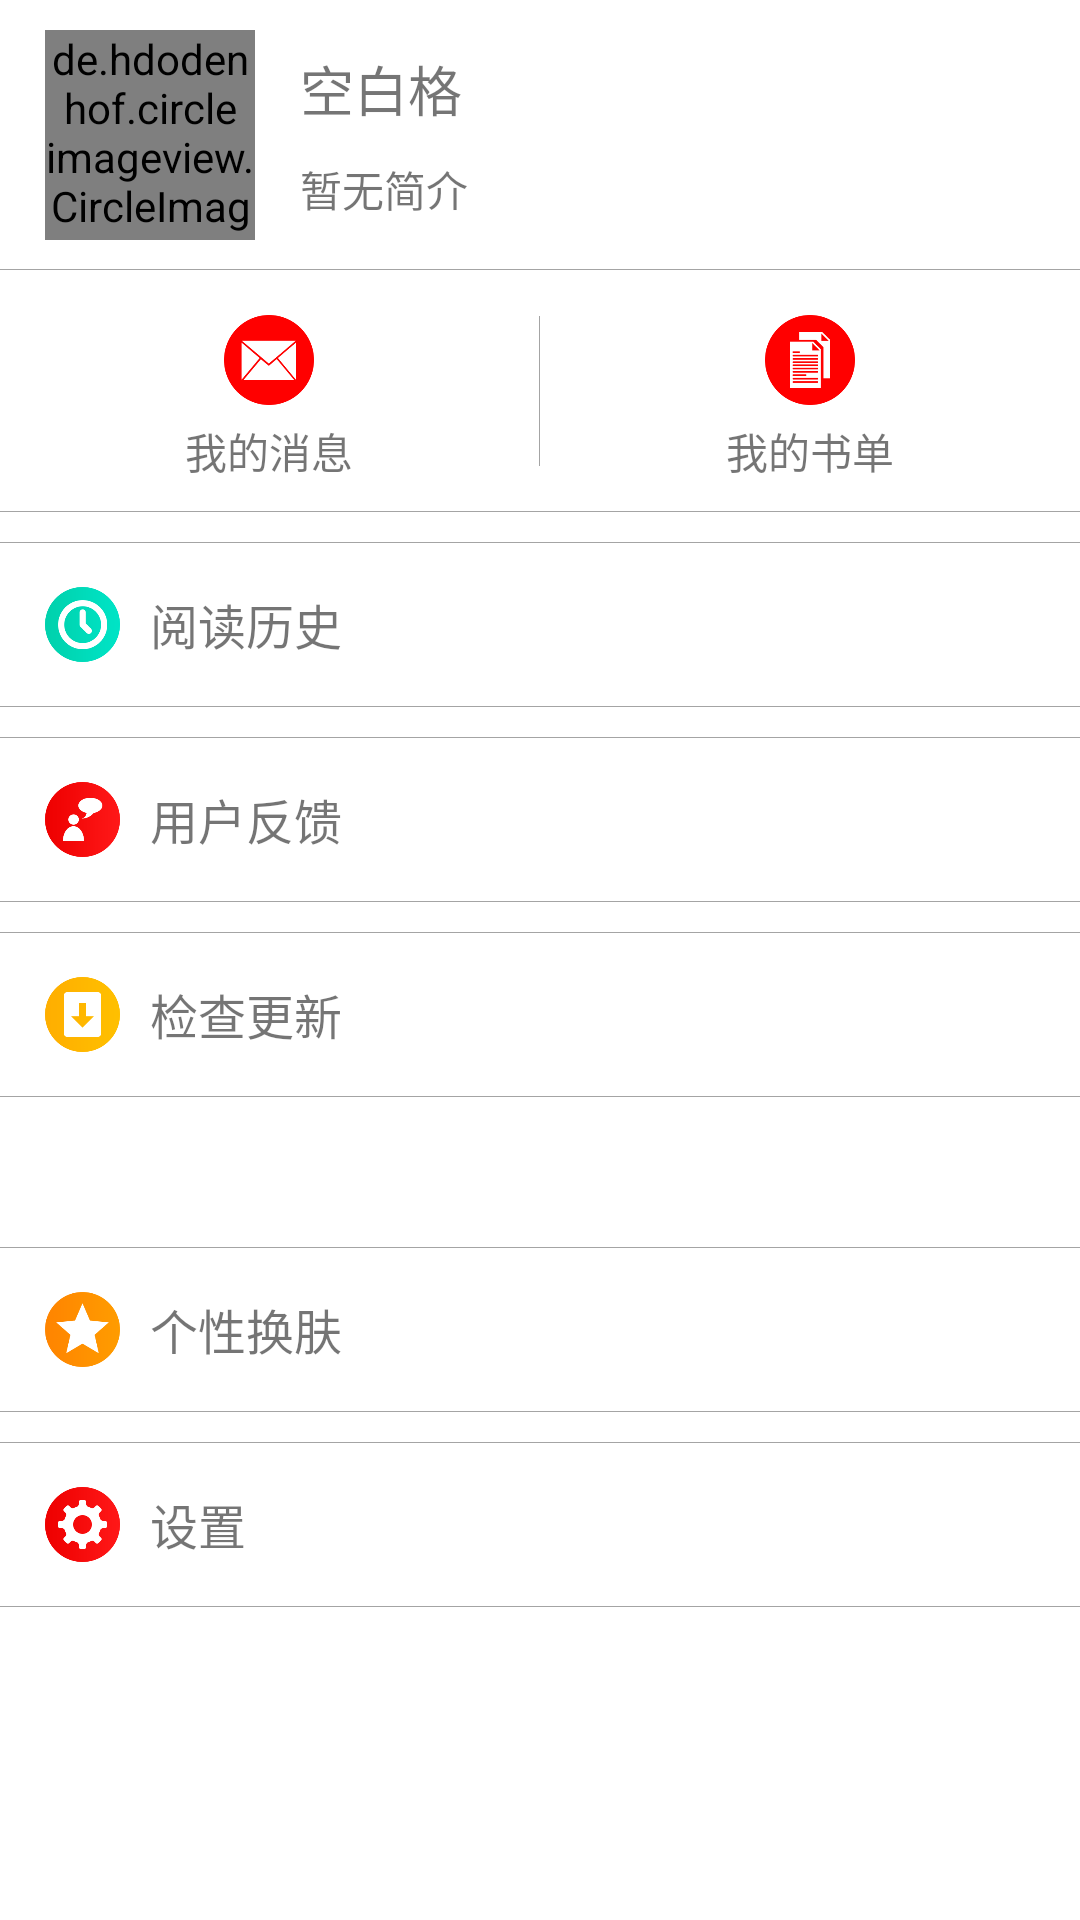

Where to tap for icons on this 1080*1920 app screen, as point (x, y):
check update: point (82, 1014)
read history: point (82, 624)
setting: point (82, 1524)
user feedback: point (82, 819)
